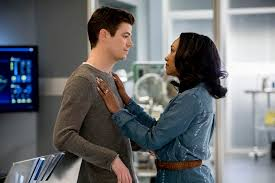Bad: (54, 7, 227, 183)
